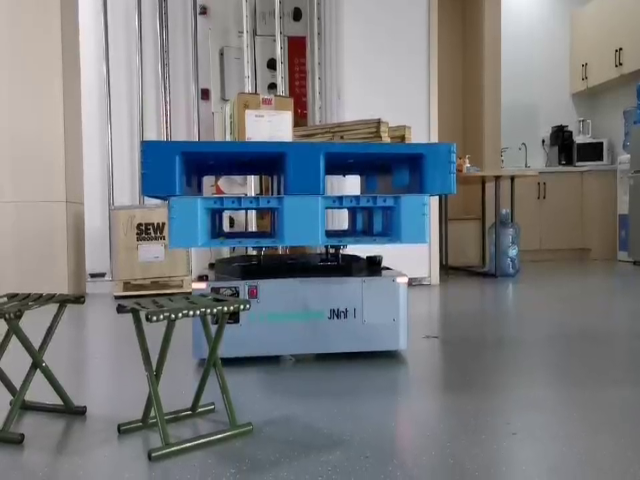block: (139, 142, 183, 196), (287, 140, 328, 196), (420, 142, 457, 193)
front: (137, 140, 456, 195)
hole pallet: (176, 151, 284, 194), (323, 153, 420, 194)
